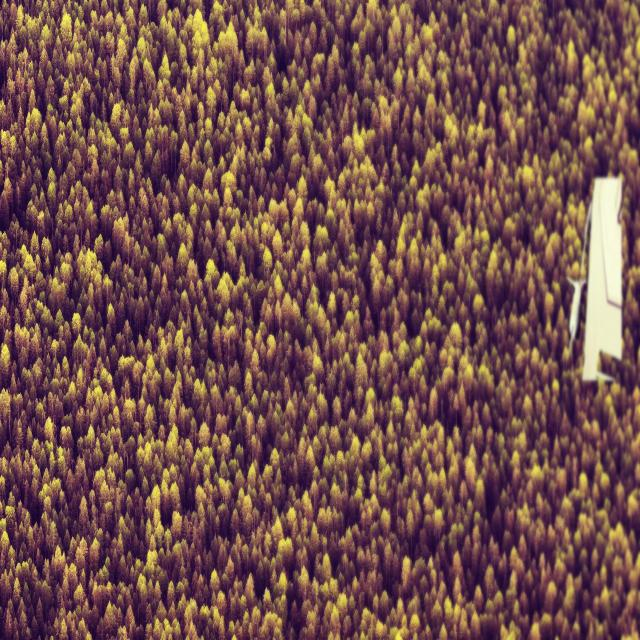airplane: (565, 174, 624, 384)
